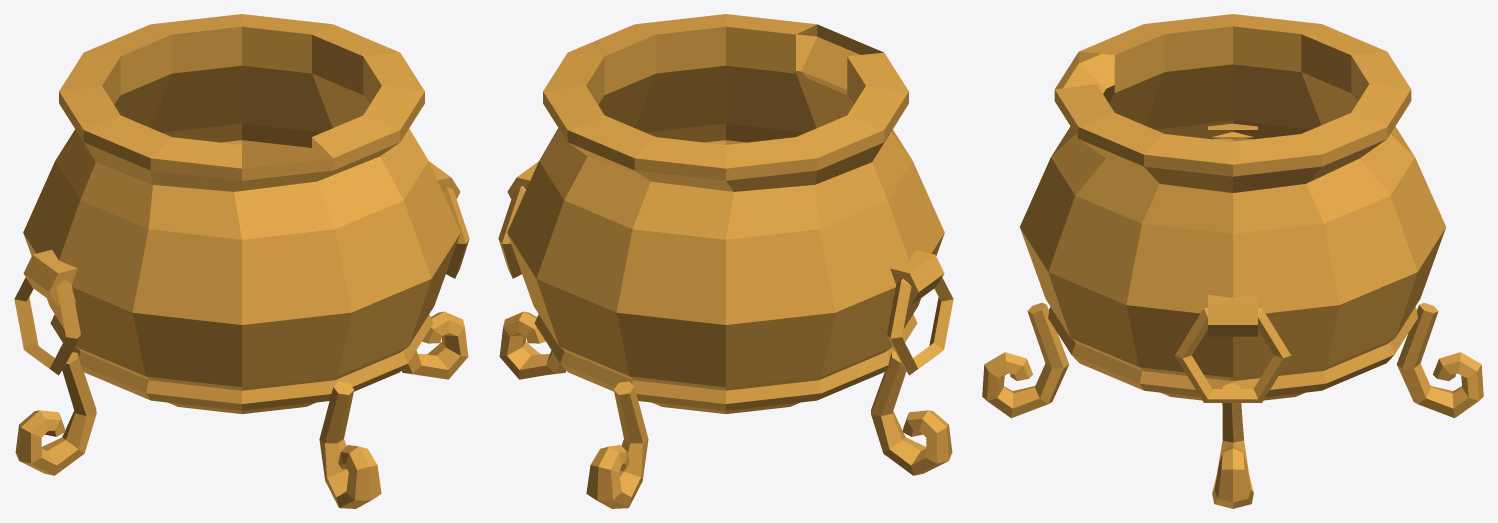
The model's file is KOTEL.fbx.
3 views of the same model, side by side, from view 1: azimuth 30°, elevation 25°; view 2: azimuth 150°, elevation 25°; view 3: azimuth 270°, elevation 25° (orthographic). The views are drawn at different scales.
Visible parts, largest first — view 1: cauldron-potion-full; view 2: cauldron-potion-full; view 3: cauldron-potion-full.
Boxes of the visible parts, box(x1,y1,x2,y2) form: cauldron-potion-full: box(14, 14, 469, 508); cauldron-potion-full: box(498, 14, 953, 508); cauldron-potion-full: box(982, 14, 1483, 508).
Bounding box in the file's own units: 79.44 × 57.84 × 79.44.
